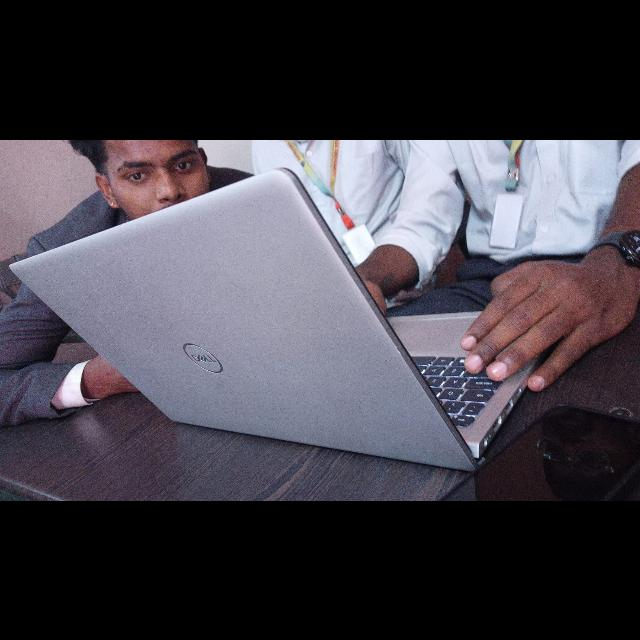laptop: (49, 232, 479, 476)
